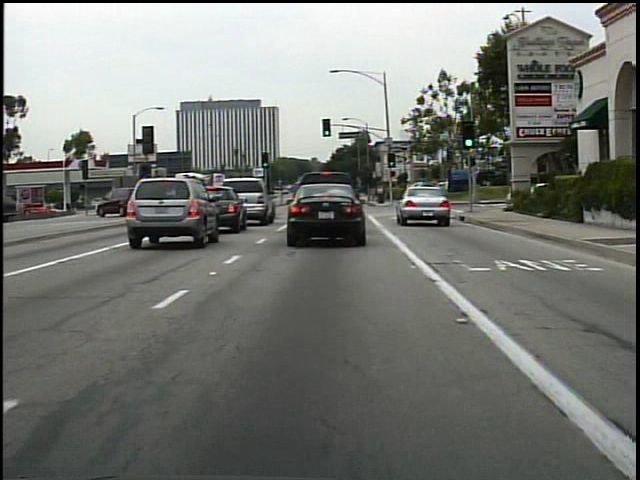person: (375, 181, 389, 206)
